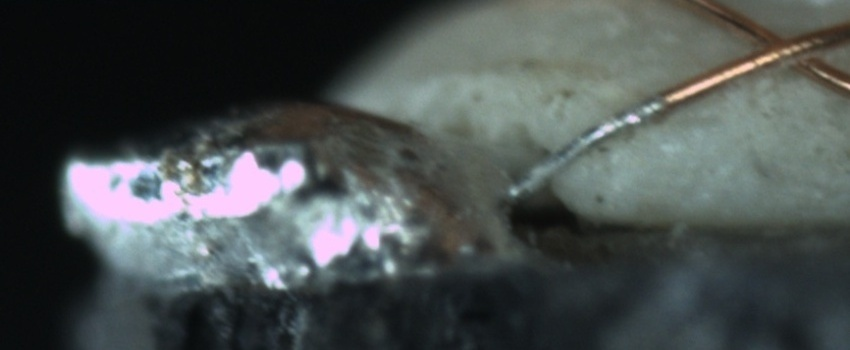CL: (719, 14, 846, 81)
TS: (510, 96, 662, 203)
